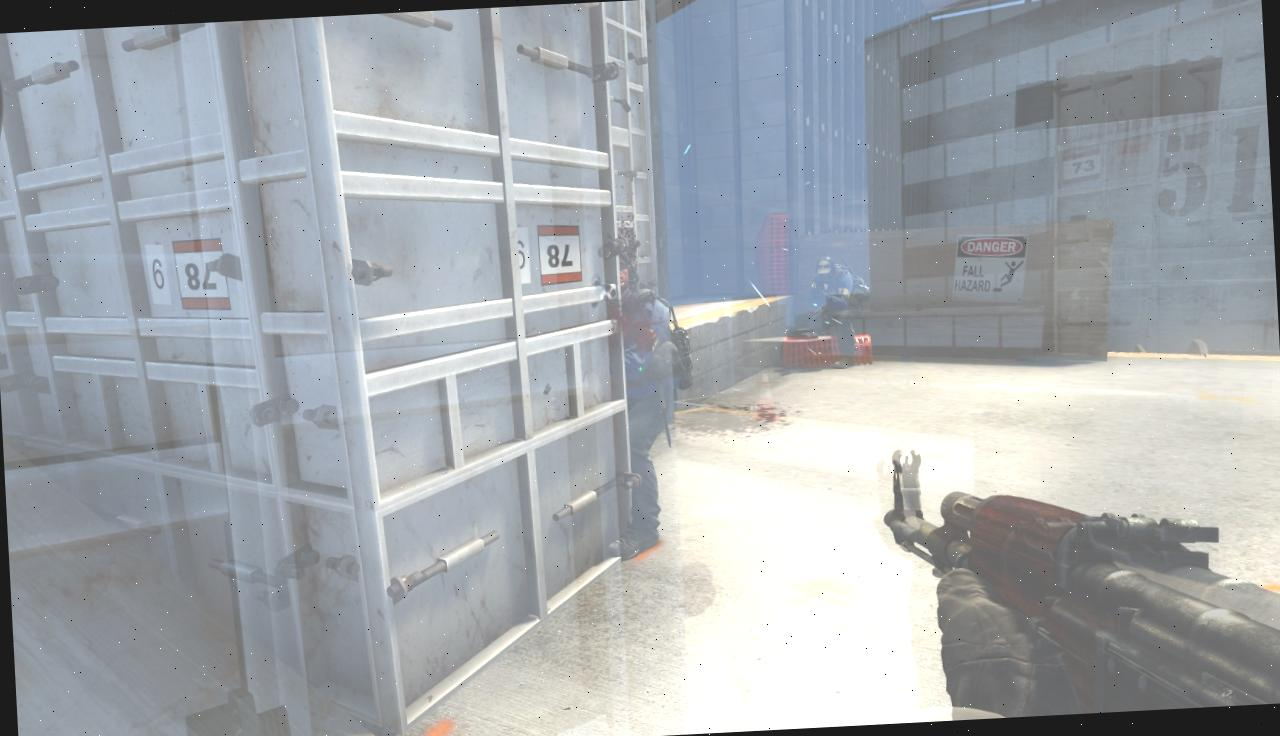ct: (616, 244, 682, 547), (806, 255, 874, 369)
cthead: (814, 257, 836, 284)
rifle: (878, 426, 1280, 723)
